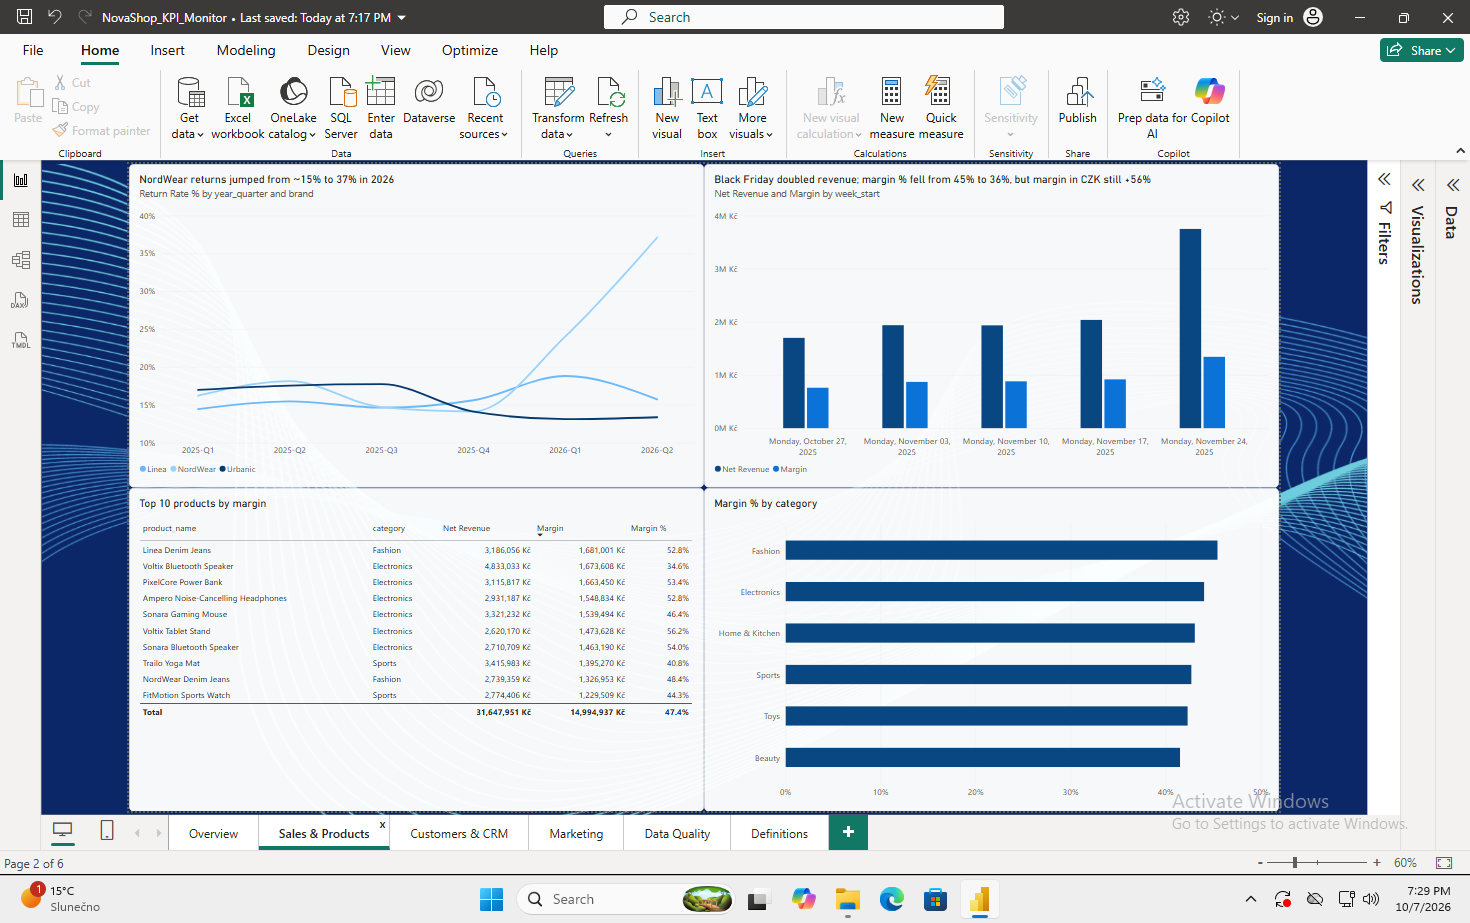

Layout of this report page (visuals, bound fields, positions):
{"tool":"powerbi","page":{"name":"Sales & Products","canvas":[1920,1080],"ordinal":1},"visuals":[{"type":"lineChart","title":"NordWear returns jumped from ~15% to 37% in 2026","fields":{"Category":["dim_date.year_quarter"],"Series":["dim_product.brand"],"Y":["_Measures.Return Rate %"]},"box":[0,0,960,540],"z":0},{"type":"tableEx","title":"Top 10 products by margin","fields":{"Values":["dim_product.product_name","dim_product.category","_Measures.Net Revenue","_Measures.Margin","_Measures.Margin %"]},"box":[0,540,960,540],"z":1000},{"type":"clusteredColumnChart","title":"Black Friday doubled revenue; margin % fell from 45% to 36%, but margin in CZK still +56%","fields":{"Category":["dim_date.week_start"],"Y":["_Measures.Net Revenue","_Measures.Margin"]},"box":[960,0,960,540],"z":2000},{"type":"clusteredBarChart","title":"Margin % by category","fields":{"Category":["dim_product.category"],"Y":["_Measures.Margin %"]},"box":[960,540,960,540],"z":3000}]}

Visuals, with their boxes on the page's 1920x1080 design canvas (x1, y1, x2, y2). These are canvas units, not pixel positions in the 1470x923 screenshot, which may show the page scaled, cropped or inside an application window:
"NordWear returns jumped from ~15% to 37% in 2026" lineChart: (0, 0, 960, 540)
"Top 10 products by margin" tableEx: (0, 540, 960, 1080)
"Black Friday doubled revenue; margin % fell from 45% to 36%, but margin in CZK still +56%" clusteredColumnChart: (960, 0, 1920, 540)
"Margin % by category" clusteredBarChart: (960, 540, 1920, 1080)
